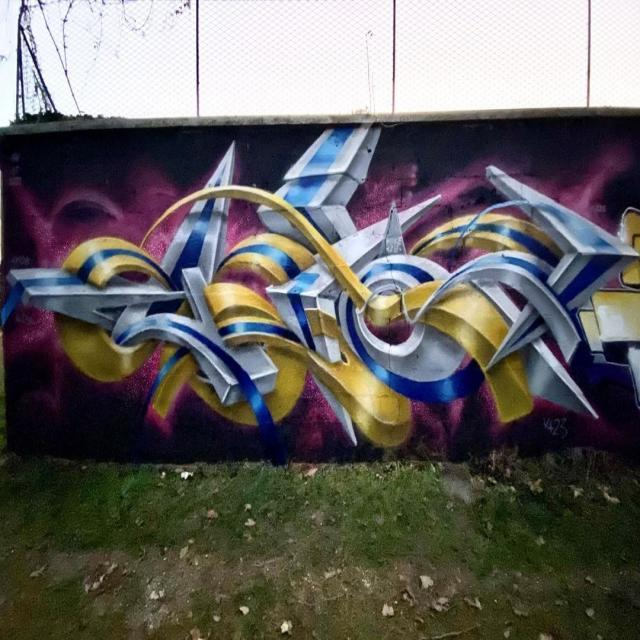nonspitting: (3, 126, 640, 451)
